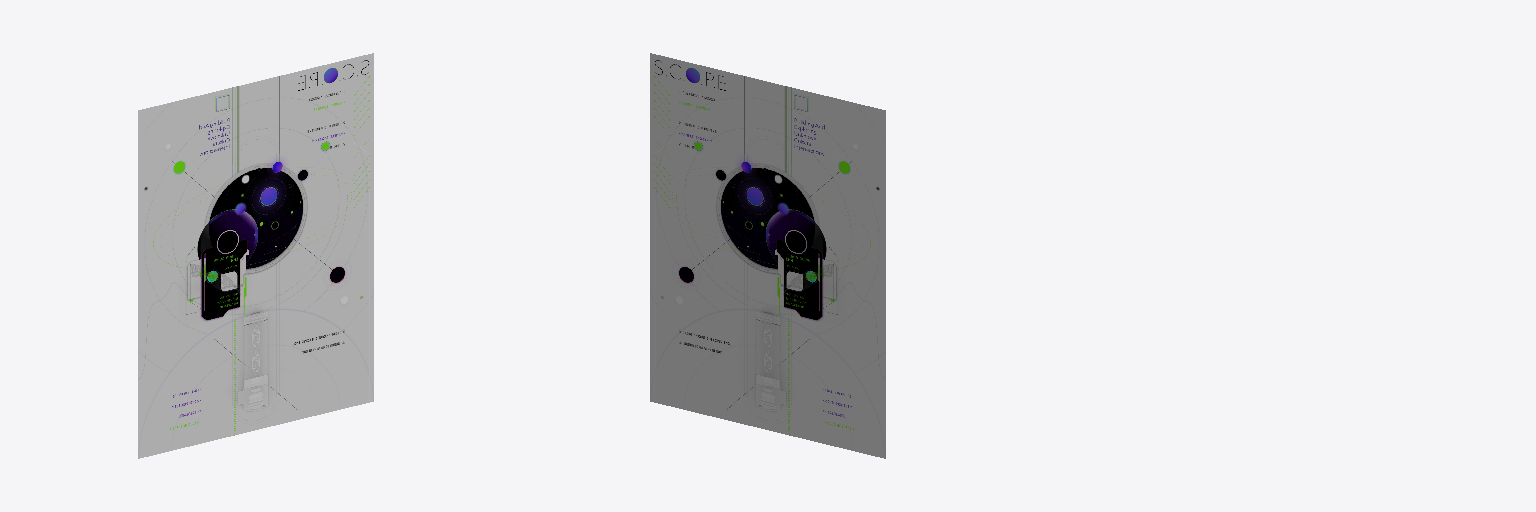
3 views of the same model, side by side, from view 1: azimuth 30°, elevation 25°; view 2: azimuth 150°, elevation 25°; view 3: azimuth 270°, elevation 25° (orthographic).
Bounding box in the file's own units: 3.87 × 5.48 × 0.
1 materials, 1 textured.